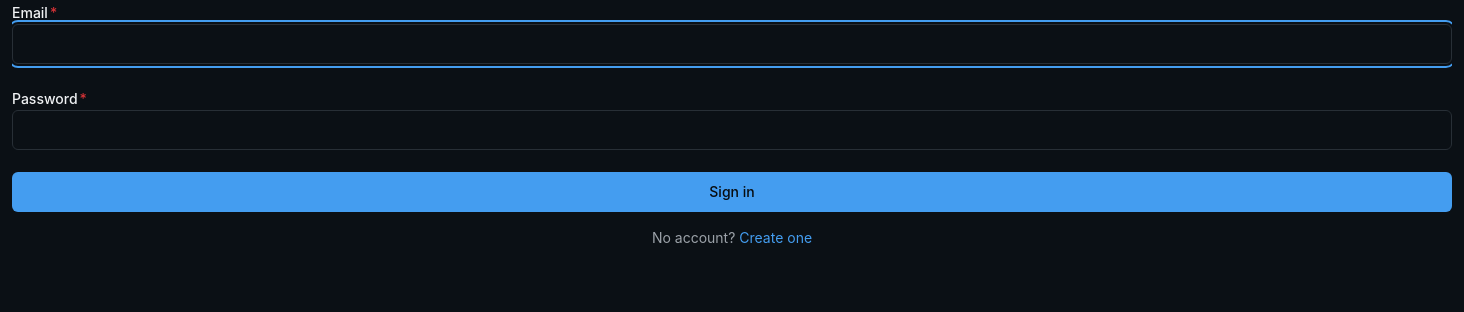
Scenario: LoginForm › never reveals whether the email exists
Type "asha@example.com" into the field labelled "Email*" at (732, 44), box [12,24,1452,64]
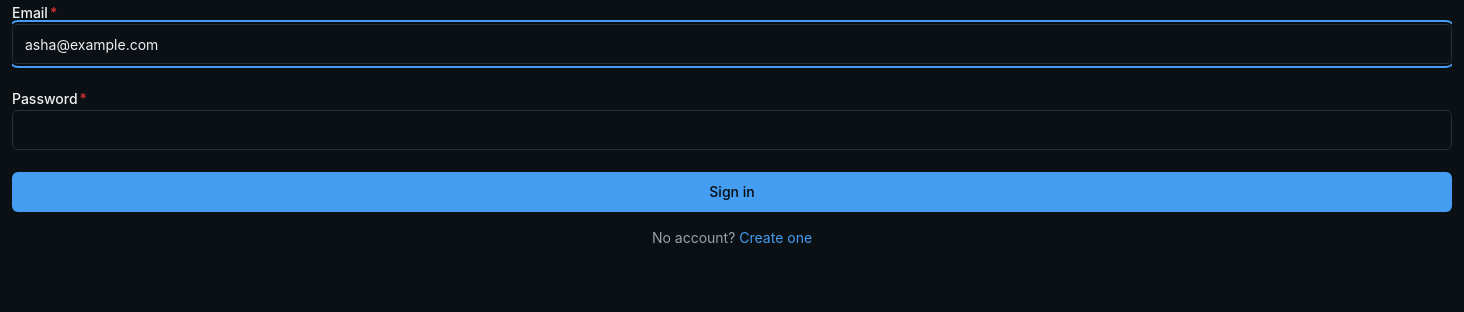
Type "wrong password here" into the password field labelled "Password*" at (732, 130), box [12,110,1452,150]
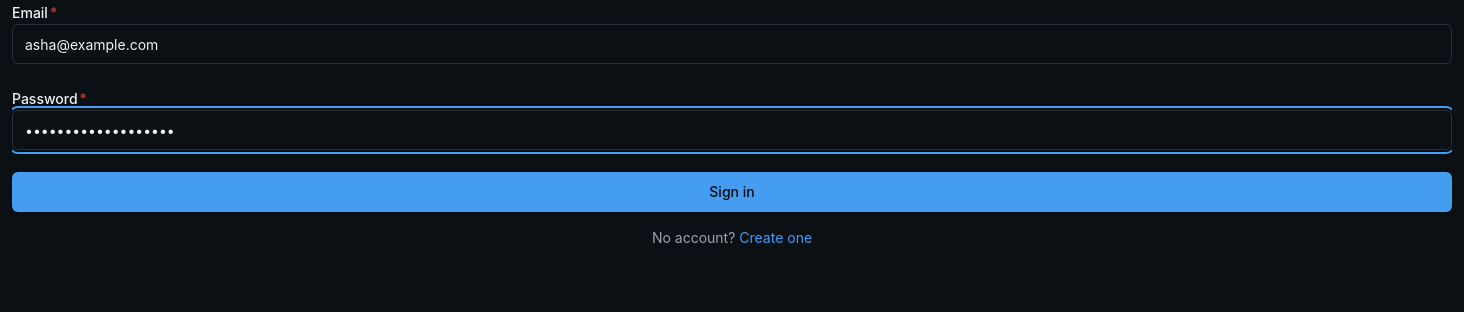
Click the button "Sign in" at (732, 192), box [12,172,1452,212]
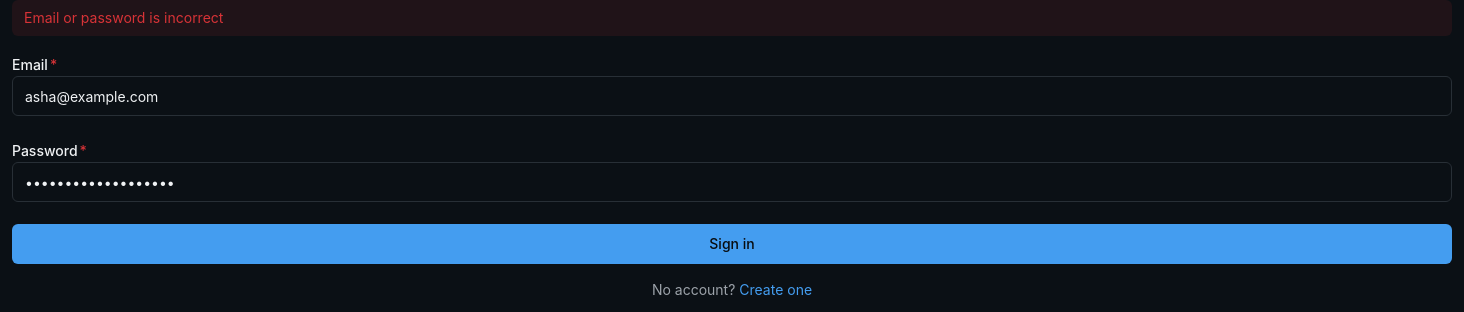
Check: the message reads "Email or password is incorrect", box [24,9,223,26]
